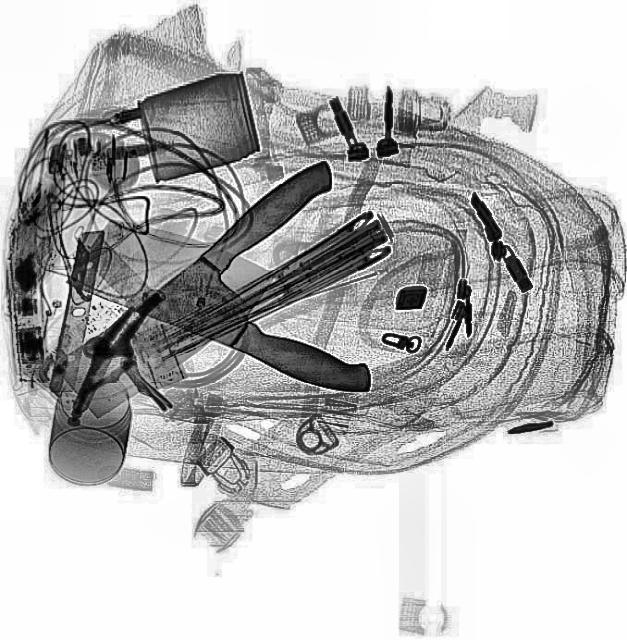Knife: (41, 152, 373, 424), (68, 204, 398, 403)
